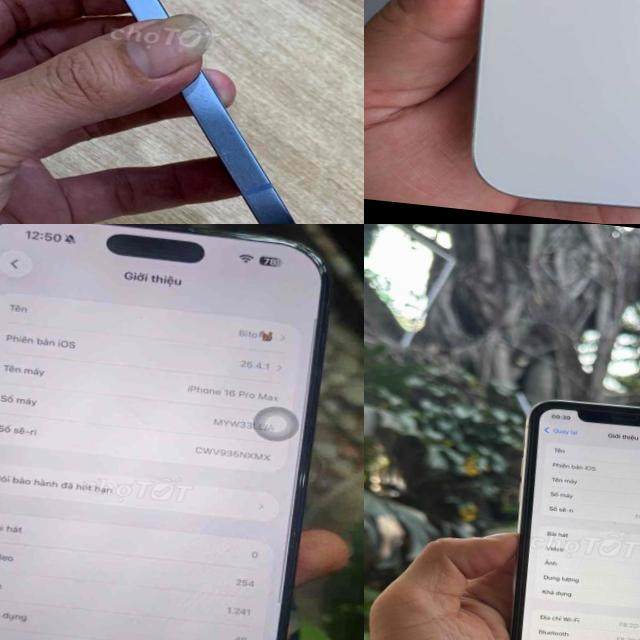gen_14: (0, 0, 364, 224)
gen_15: (445, 0, 640, 224)
gen_16: (0, 224, 327, 640)
gen_x_xs: (509, 400, 640, 640)
